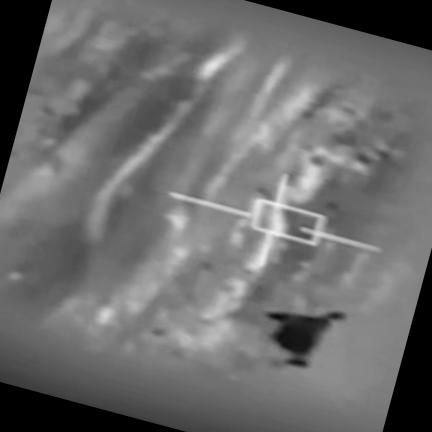Shahed: (265, 311, 346, 369)
